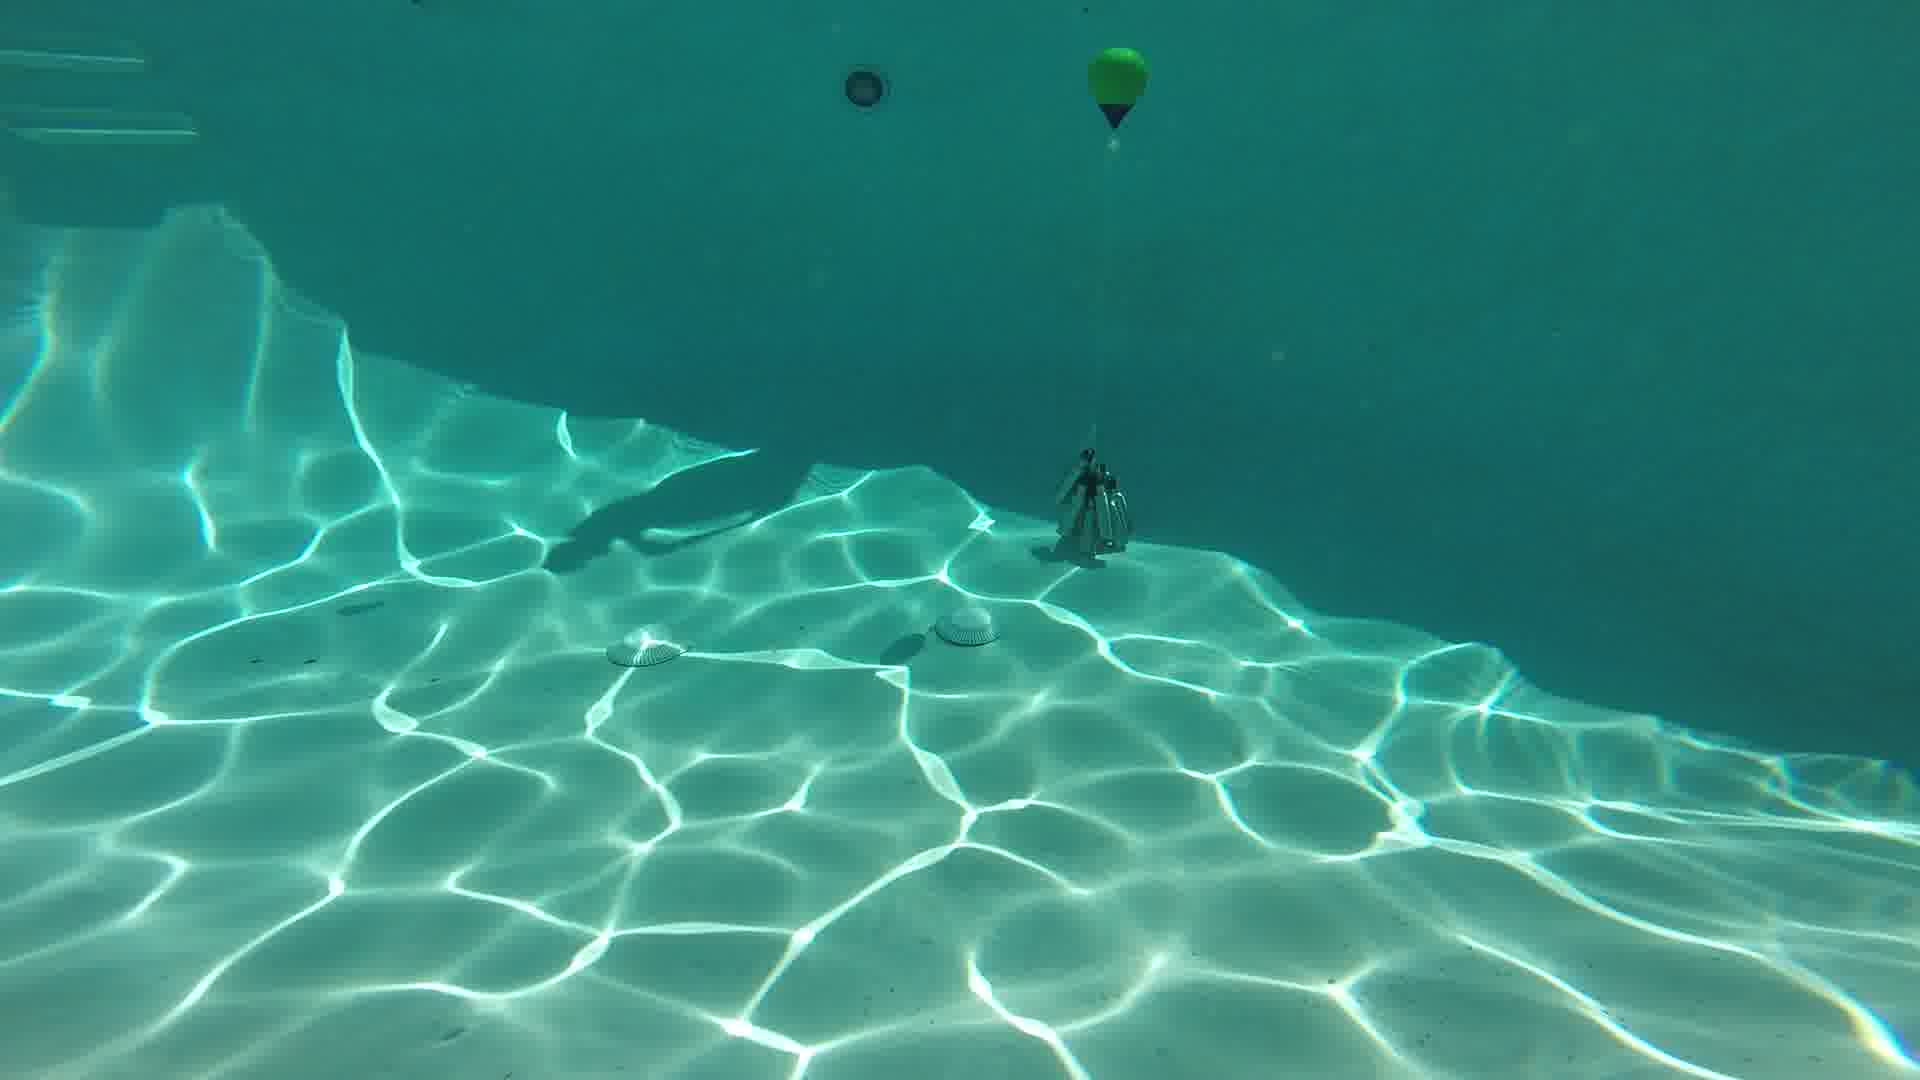yellow_buoy: (1089, 47, 1146, 127)
